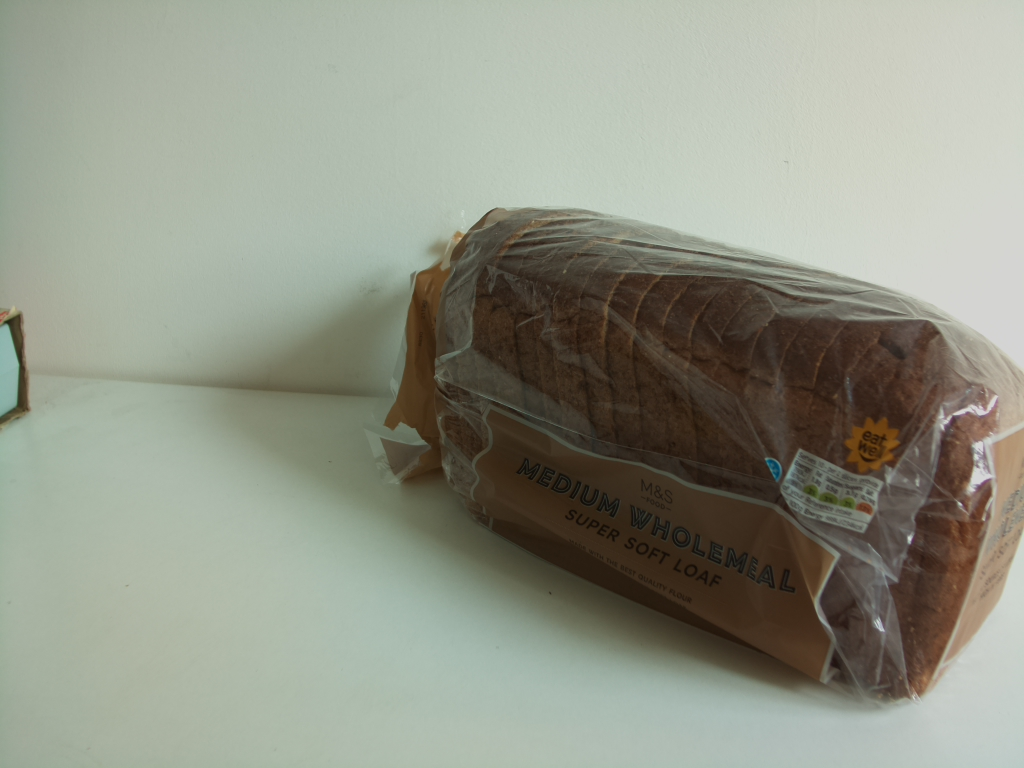bread: (368, 203, 1024, 708)
